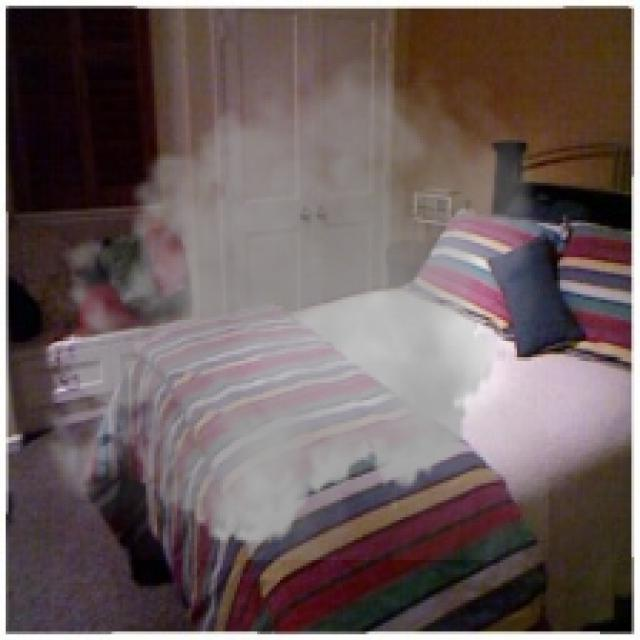smoke: (29, 37, 548, 560)
